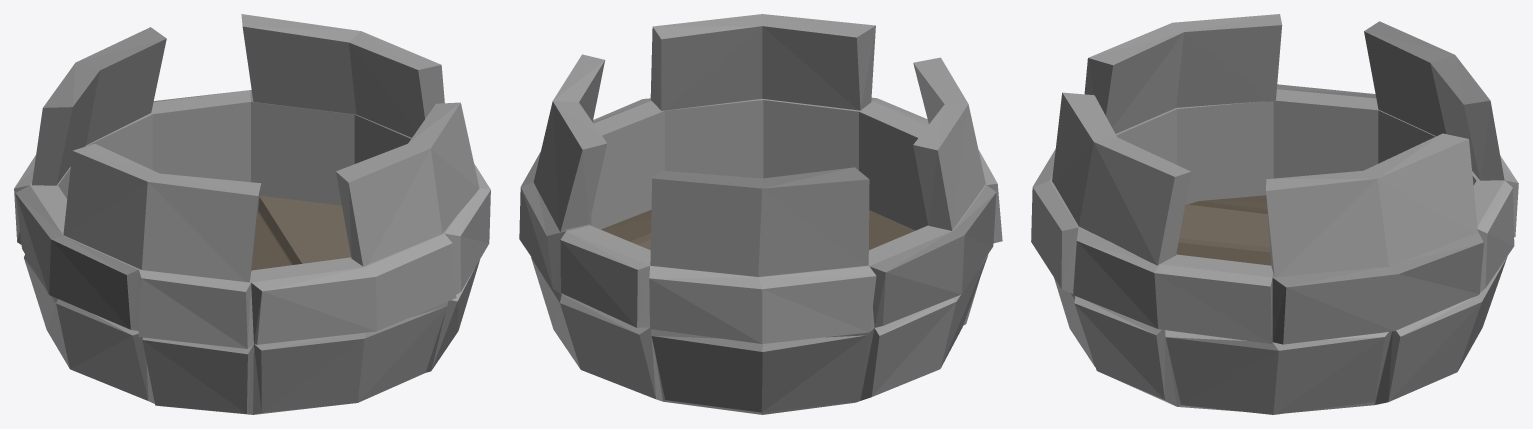
File: _TOWER_3_UP_01.fbx
3 renders of one model, left to right at view 1: azimuth 30°, elevation 25°; view 2: azimuth 150°, elevation 25°; view 3: azimuth 270°, elevation 25°, orthographic.
Parts seen in each view (by area): view 1: TOWER_3_UP_01; view 2: TOWER_3_UP_01; view 3: TOWER_3_UP_01.
Boxes of the visible parts, x1,y1,x2,y2 form: TOWER_3_UP_01: (14,14,490,414); TOWER_3_UP_01: (519,14,1002,414); TOWER_3_UP_01: (1031,14,1518,414).
Size of the model in its own units: 373 by 203 by 377.
